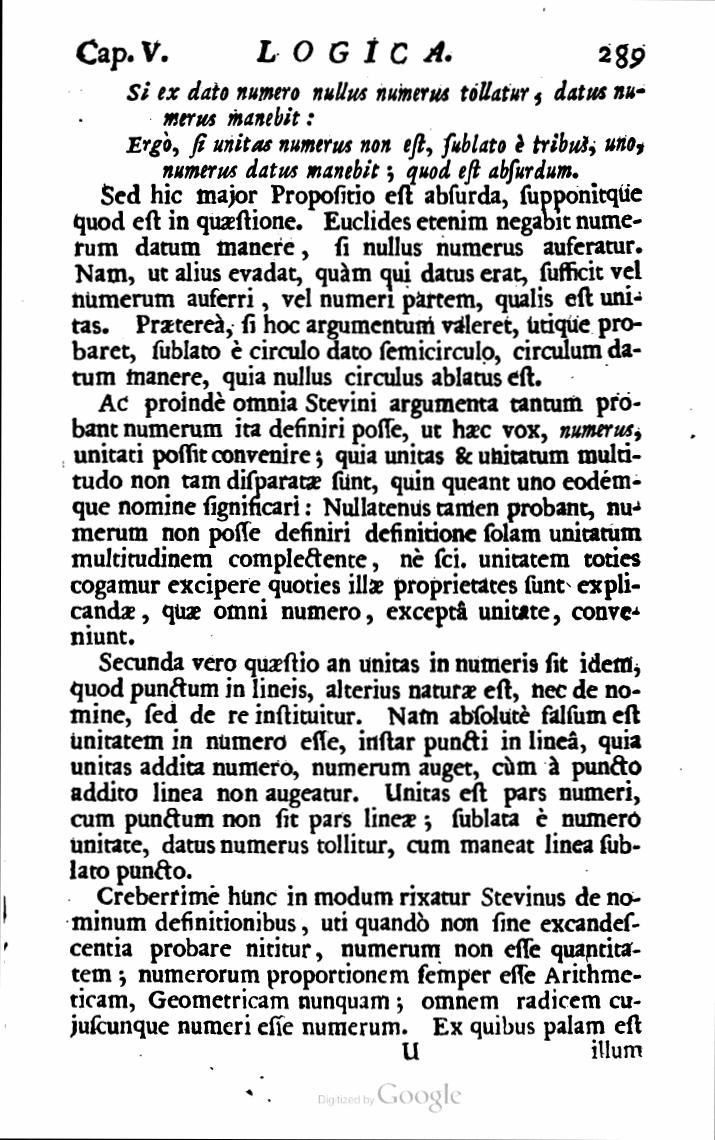catchword: (581, 1040, 647, 1061)
full_p: (69, 390, 647, 644), (67, 644, 647, 881), (69, 180, 647, 389), (120, 77, 650, 181)
header: (71, 31, 457, 73)
page_num: (591, 39, 647, 71)
signature: (401, 1039, 427, 1064)
top_p: (66, 880, 646, 1043)
